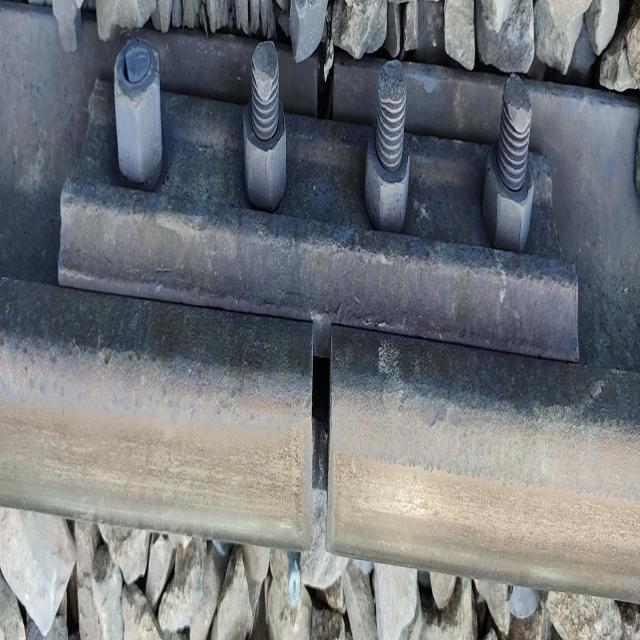Good Joint: (58, 80, 580, 362)
